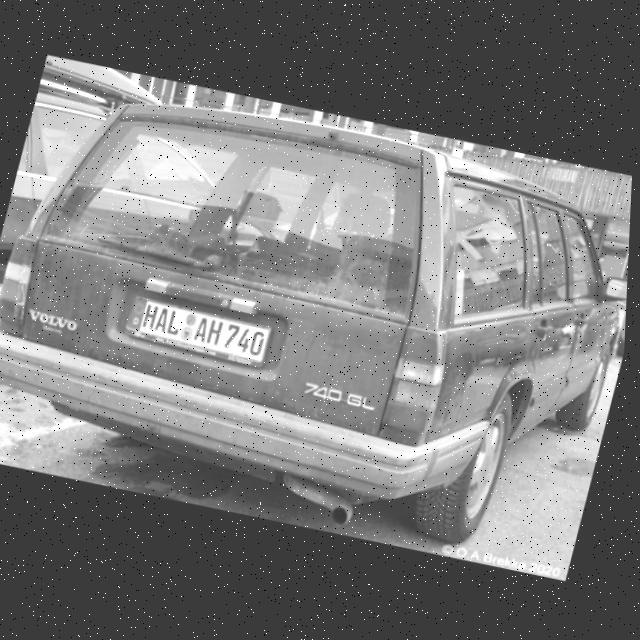license-plates: (125, 297, 271, 367)
